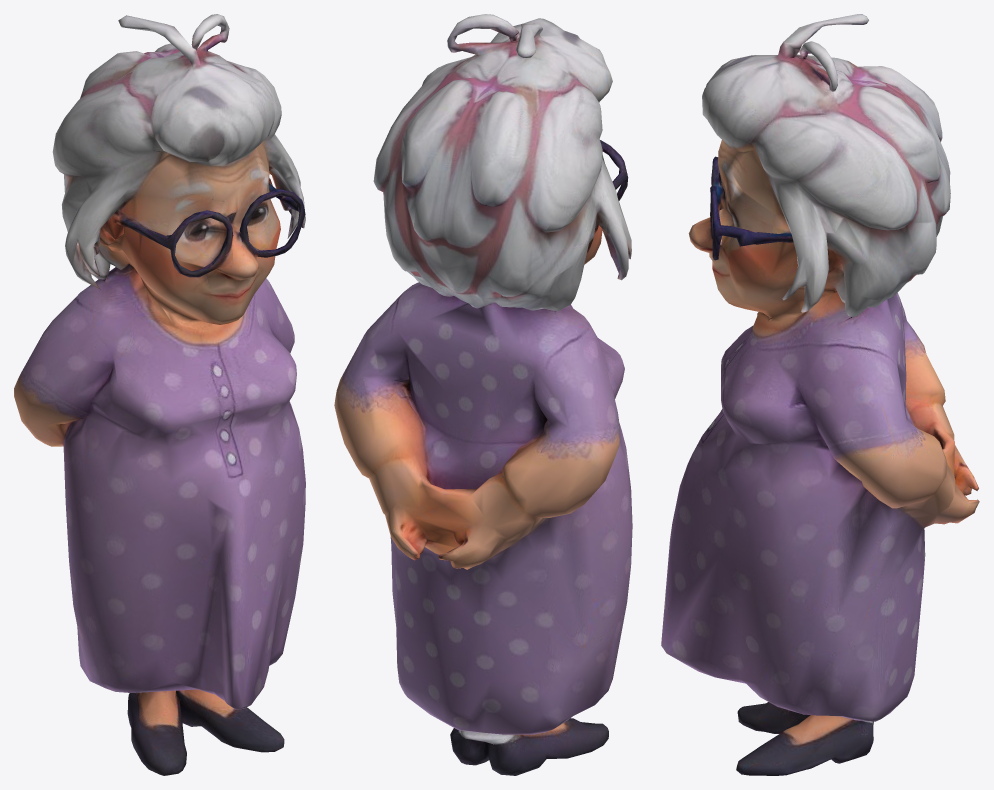
Rendered from grandma.glb.
3 renders of one model, left to right at view 1: azimuth 30°, elevation 25°; view 2: azimuth 150°, elevation 25°; view 3: azimuth 270°, elevation 25°, orthographic. The views are drawn at different scales.
Parts seen in each view (by area): view 1: Mesh_0; view 2: Mesh_0; view 3: Mesh_0.
Part boxes in pixels (bbox=[...]): Mesh_0: bbox=[14, 14, 305, 775]; Mesh_0: bbox=[334, 14, 632, 775]; Mesh_0: bbox=[661, 14, 979, 775].
Bounding box in the file's own units: 0.7747 × 2 × 0.8077.
Materials: 1 (1 with a texture image).
